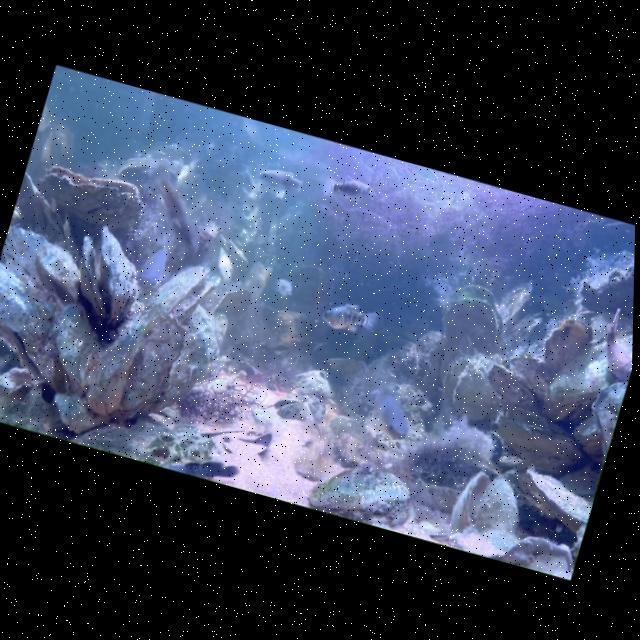Oyster-Closed: (539, 307, 633, 435), (118, 309, 189, 420), (80, 305, 150, 416), (36, 160, 148, 226), (487, 413, 590, 484), (511, 466, 598, 536), (7, 172, 83, 248), (535, 311, 598, 381)
Oyster-Indeterminate: (0, 261, 93, 393), (159, 302, 230, 413), (37, 299, 110, 399), (25, 240, 90, 305), (479, 361, 545, 413), (495, 275, 536, 332), (0, 330, 25, 414)
Oyster-Open: (60, 220, 153, 333), (444, 466, 530, 554), (145, 253, 224, 331), (432, 275, 501, 355), (113, 146, 183, 199), (270, 394, 310, 424)
